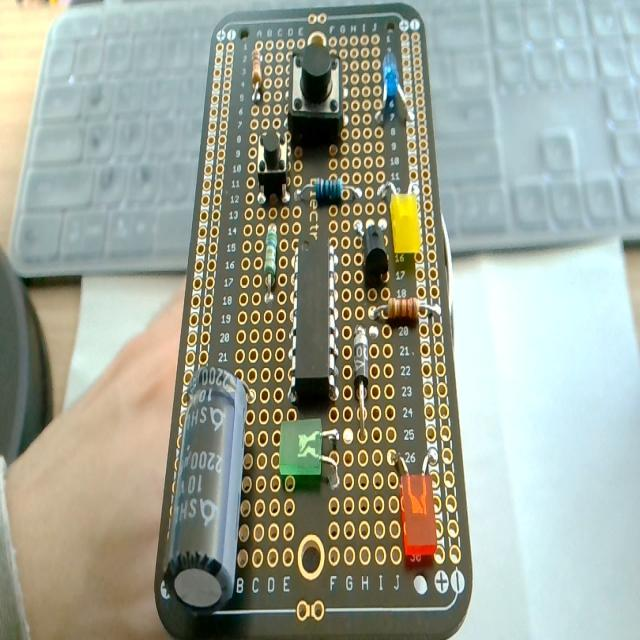Electrolytic capacitor: (162, 363, 251, 614)
IC: (287, 237, 337, 404)
diode: (352, 327, 370, 438)
led: (392, 449, 440, 563), (279, 418, 340, 489), (376, 47, 415, 125), (390, 192, 420, 274)
resistor: (370, 300, 442, 326), (263, 223, 278, 305), (315, 177, 343, 205), (252, 46, 262, 92)
switch: (288, 40, 342, 138), (256, 128, 288, 204)
transistor: (362, 217, 389, 287)
